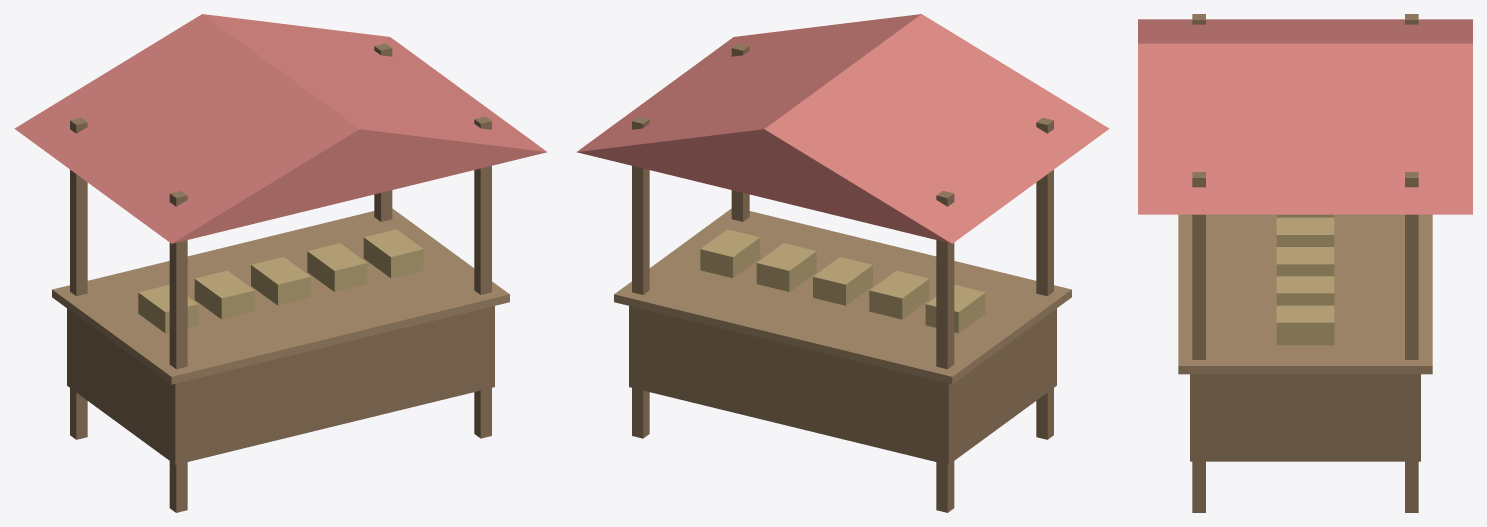
Rendered from market.glb.
3 renders of one model, left to right at view 1: azimuth 30°, elevation 25°; view 2: azimuth 150°, elevation 25°; view 3: azimuth 270°, elevation 25°, orthographic. The views are drawn at different scales.
Visible parts, largest first — view 1: Market; view 2: Market; view 3: Market.
Boxes of the visible parts, x1,y1,x2,y2 form: Market: [14, 14, 547, 512]; Market: [576, 14, 1109, 512]; Market: [1138, 14, 1472, 512].
Size of the model in its own units: 4 by 3.7 by 2.9.
